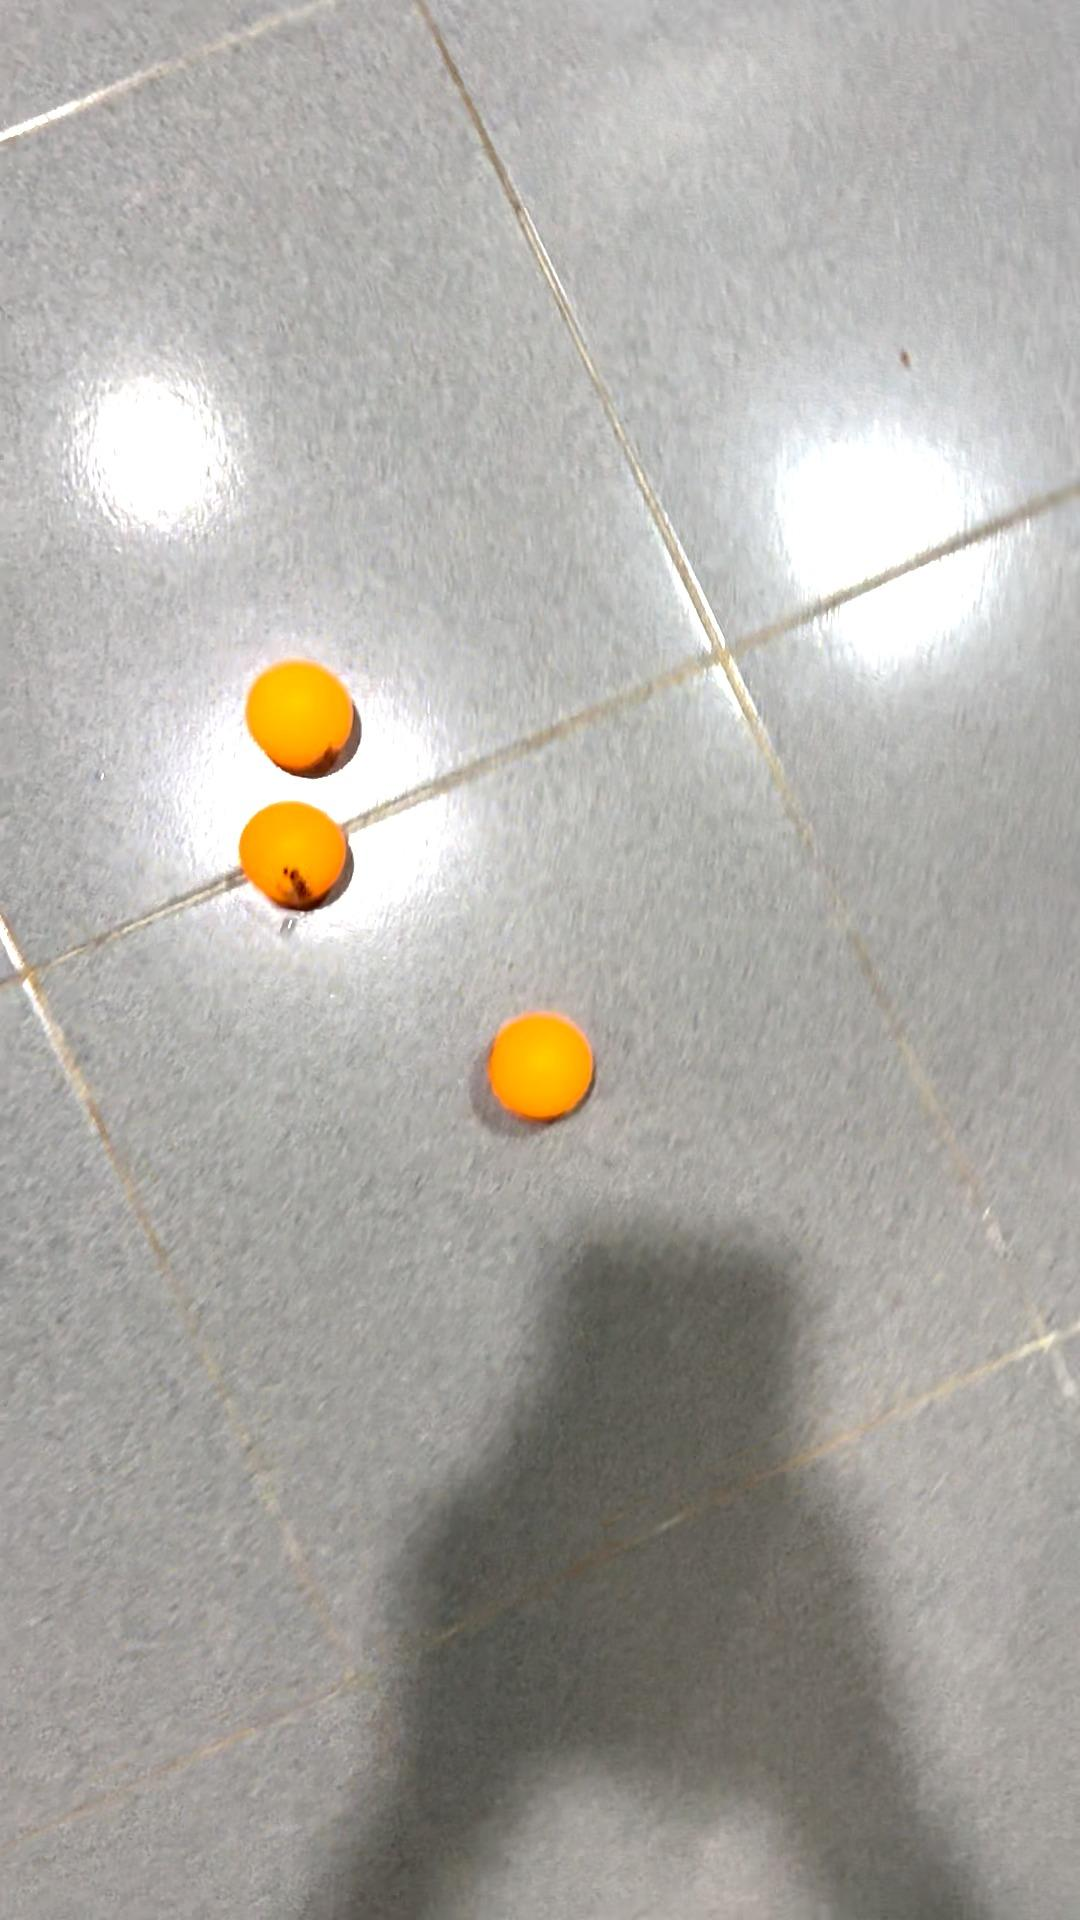oball: (228, 791, 368, 924), (238, 648, 371, 782), (478, 1001, 608, 1135)
